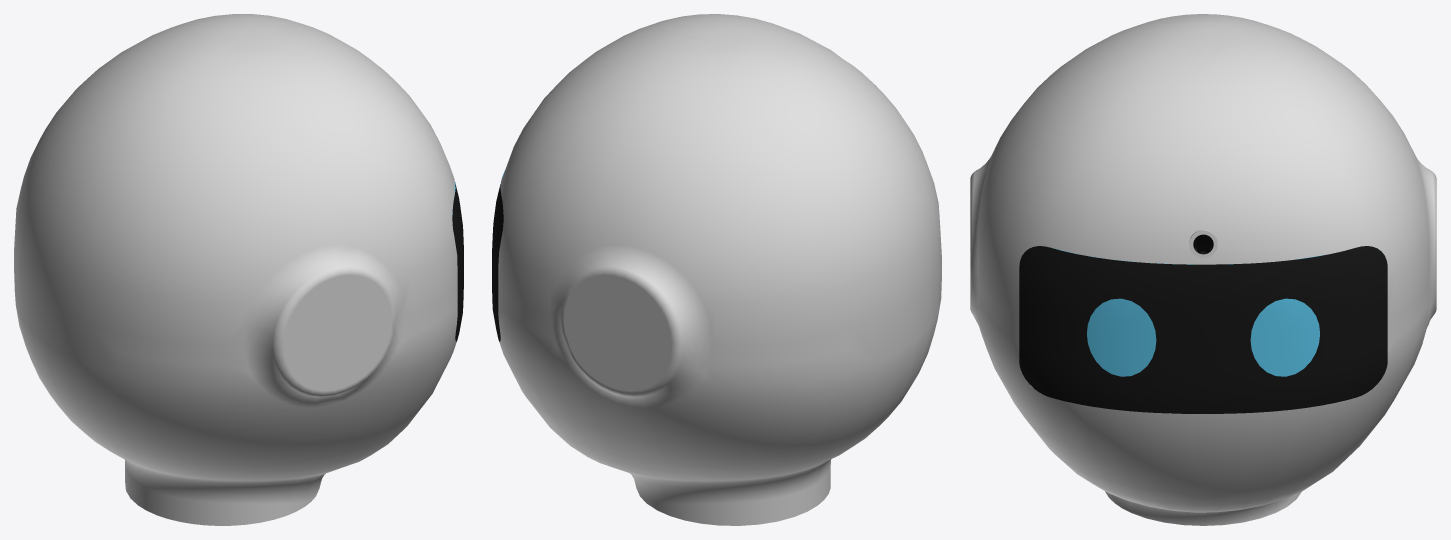
The model's file is head.DAE.
The picture shows the model from 3 angles, left to right: view 1: azimuth 30°, elevation 25°; view 2: azimuth 150°, elevation 25°; view 3: azimuth 270°, elevation 25°; orthographic projection. The views are drawn at different scales.
Parts seen in each view (by area): view 1: 切除-拉伸10, 切除-拉伸5; view 2: 切除-拉伸10, 切除-拉伸5; view 3: 切除-拉伸10, 切除-拉伸5.
Boxes of the visible parts, x1=… form: 切除-拉伸10: x1=14, y1=14, x2=457, y2=525; 切除-拉伸5: x1=452, y1=181, x2=463, y2=341; 切除-拉伸10: x1=498, y1=14, x2=941, y2=525; 切除-拉伸5: x1=492, y1=169, x2=505, y2=341; 切除-拉伸10: x1=970, y1=14, x2=1436, y2=525; 切除-拉伸5: x1=1019, y1=246, x2=1387, y2=413.
Bounding box in the file's own units: 0.2178 × 0.228 × 0.244.
